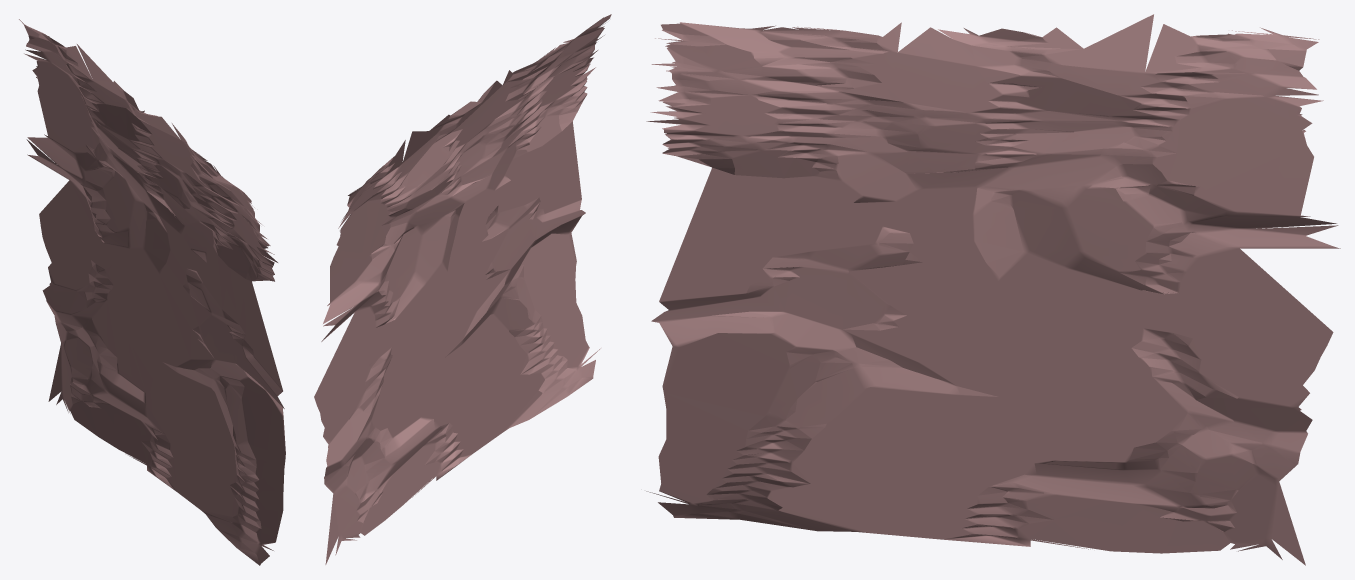
The model's file is plateau.fbx_Rock_Plateau_030LODs.fbx.
3 views of the same model, side by side, from view 1: azimuth 30°, elevation 25°; view 2: azimuth 150°, elevation 25°; view 3: azimuth 270°, elevation 25° (orthographic). The views are drawn at different scales.
Parts seen in each view (by area): view 1: Rock Plateau.030_LOD0; view 2: Rock Plateau.030_LOD0; view 3: Rock Plateau.030_LOD0.
Part boxes in pixels (box(x1,y1,x2,y2)): Rock Plateau.030_LOD0: box(19, 19, 285, 565); Rock Plateau.030_LOD0: box(314, 14, 611, 564); Rock Plateau.030_LOD0: box(646, 14, 1340, 565).
Size of what is drawn, in the model's own units: 342 by 2726 by 3251.
